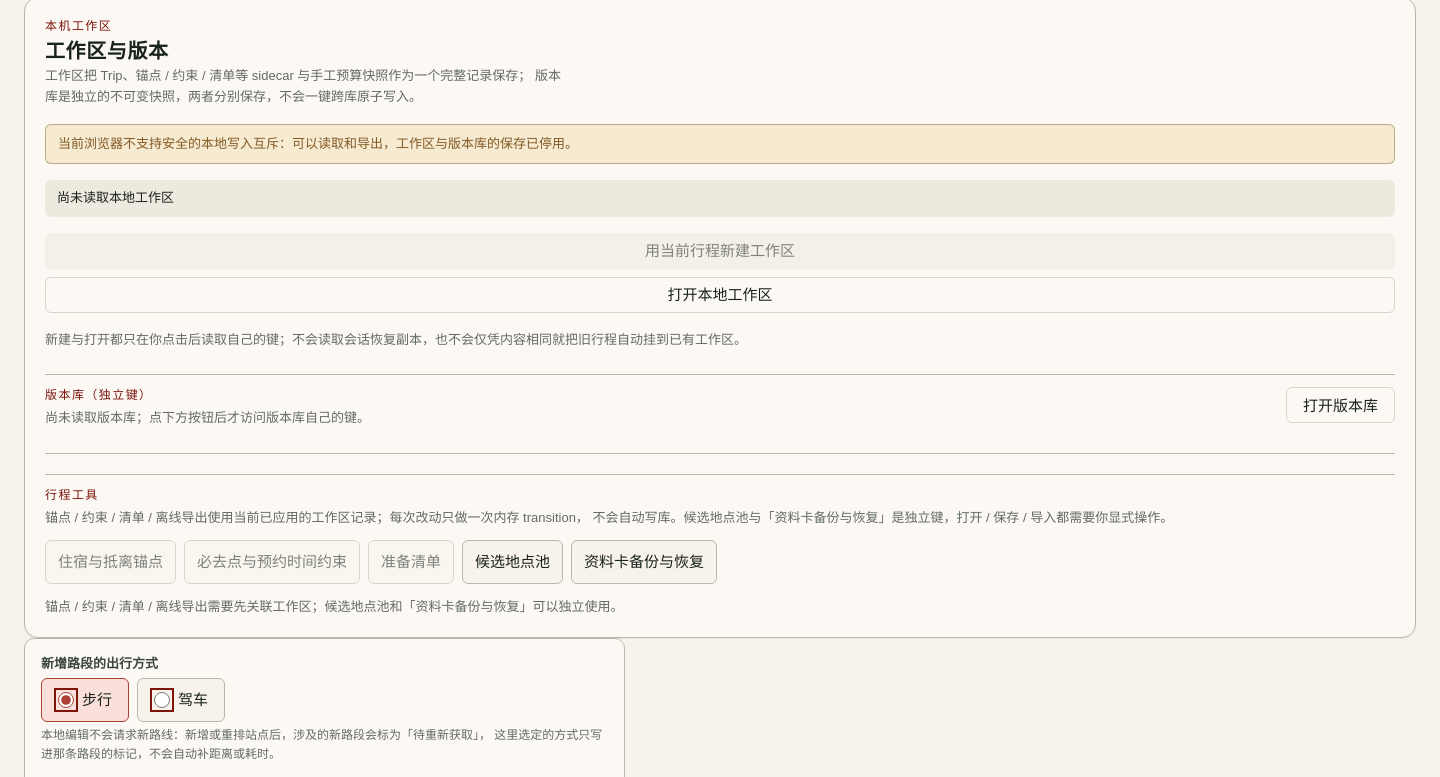
Test: App 工作区与版本接线 › 无锁环境：写入 typed 停用（创建/保存禁用），读取入口保持可用
The image size is (1440, 777).
(page scrolled)
Expected: the element "工作区与版本" shows "保存已停用", x1=58 y1=136 x2=578 y2=150
Expected: the button "用当前行程新建工作区" is disabled, x1=45 y1=233 x2=1395 y2=269
Click the button "打开版本库". click: (1340, 405)
box: x1=1286 y1=387 x2=1395 y2=423
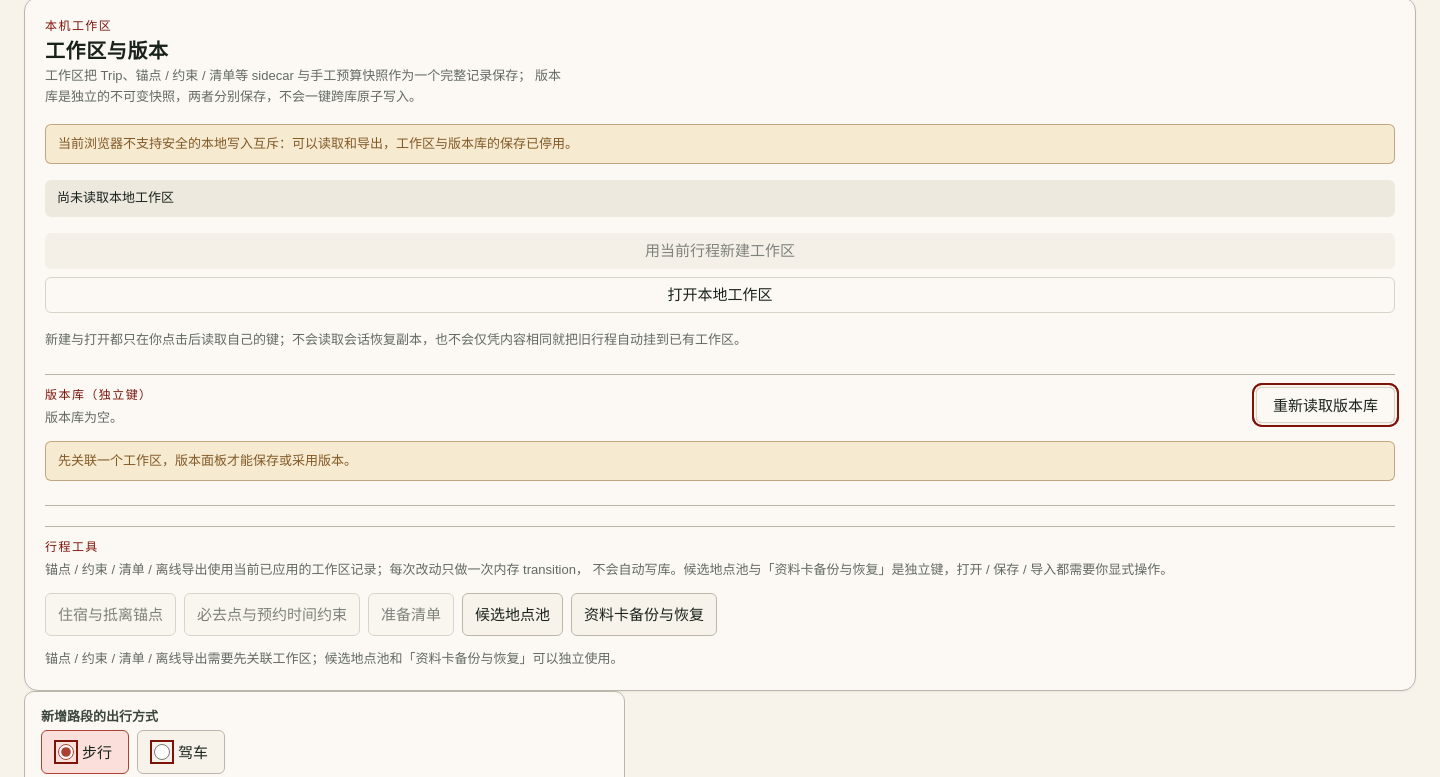
Now the text "版本库为空。" is shown, box x1=45 y1=410 x2=123 y2=425
